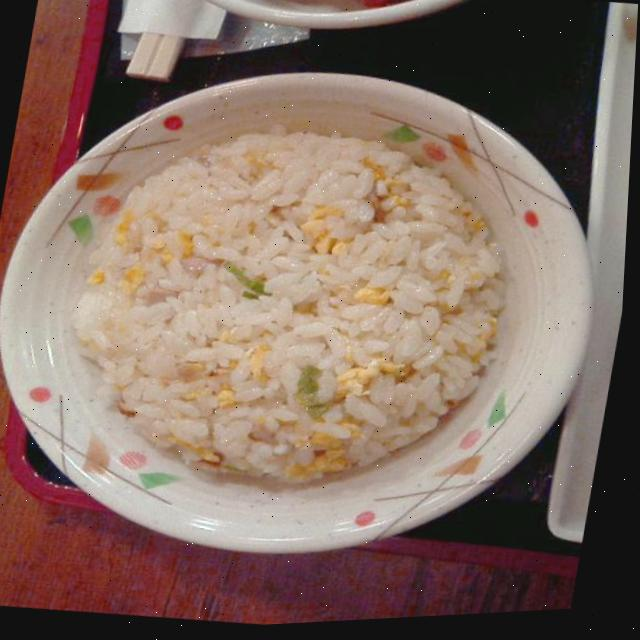米饭主食: (0, 16, 638, 617)
